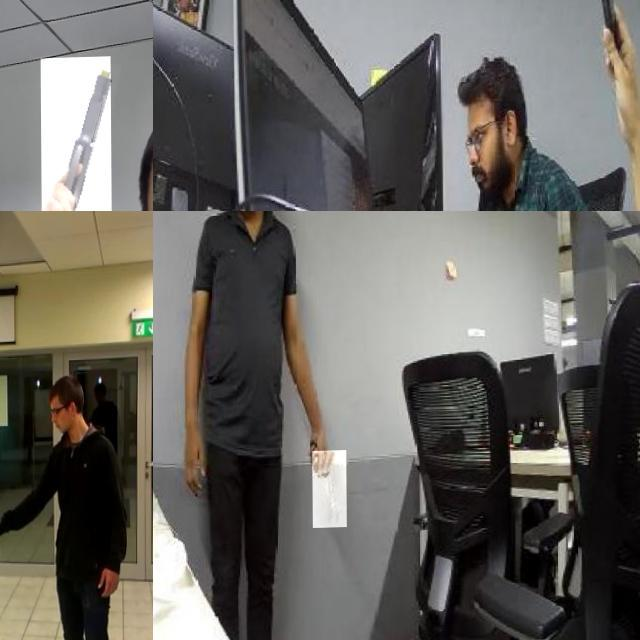-: (566, 0, 622, 77), (312, 452, 346, 530)
gun-knife-thesis - v11 Yolov5 augmented: (40, 58, 111, 211), (0, 514, 18, 558)
